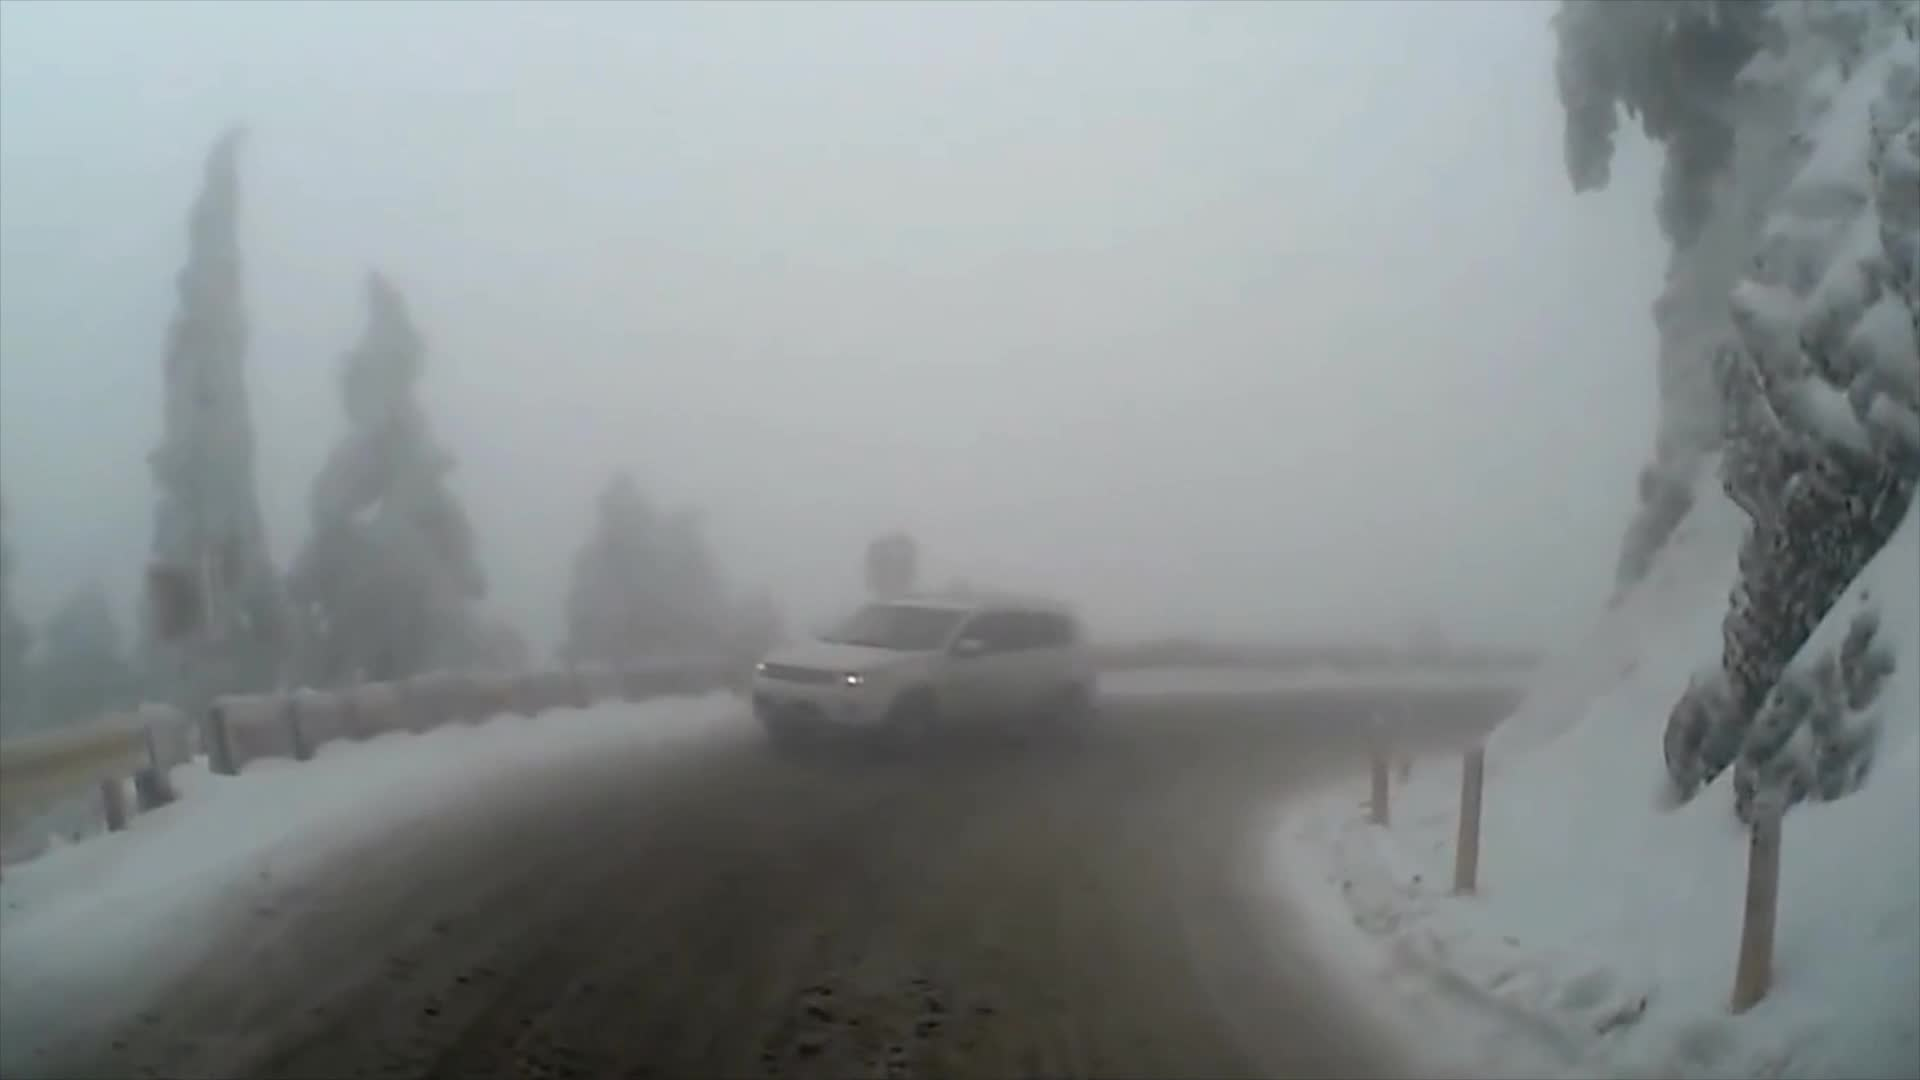vehicle: (746, 593, 1096, 771)
